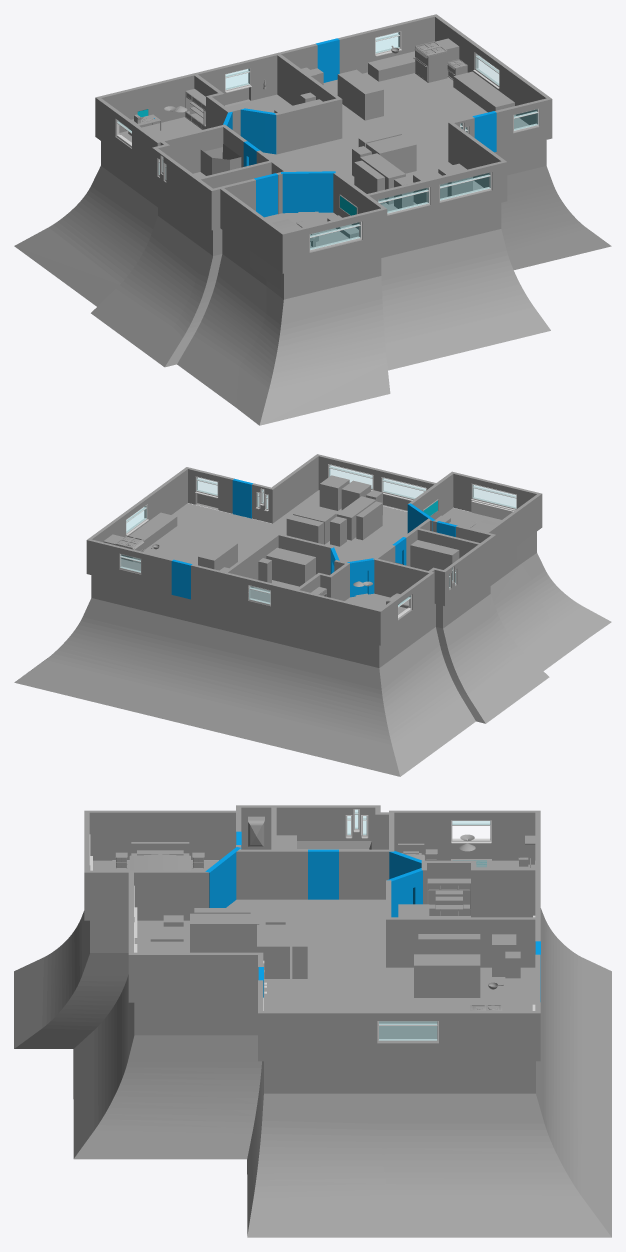
Rendered from GlessnerHome2.pointfive.fbx.
3 views of the same model, one above another, from view 1: azimuth 30°, elevation 25°; view 2: azimuth 150°, elevation 25°; view 3: azimuth 270°, elevation 25° (orthographic). The views are drawn at different scales.
Visible parts, largest first — view 1: pasted__pCube75, pasted__pasted__polySurface35, pasted__pCube74, pasted__pCube26, pasted__polySurface133, pasted__polySurface199, pasted__pCube51, pasted__pasted__pCylinder8, pasted__polySurface116, pasted__polySurface209, pasted__pCube77, pasted__pCube49 (+4 smaller); view 2: pasted__pCube75, pasted__pasted__polySurface35, pasted__pCube74, pasted__pCube39, pasted__pCube42, pasted__pCube26, pasted__polySurface199, pasted__pCube57, pasted__pCube53, pasted__pCube49, pasted__pCube50, pasted__polySurface120 (+4 smaller); view 3: pasted__pCube75, pasted__pasted__polySurface35, pasted__pCube74, pasted__pCube26, pasted__pCube50, pasted__pCube51, pasted__pCube27, pasted__pCube65, pasted__polySurface133, pasted__pasted__pCube81, pasted__polySurface121, pasted__polySurface116 (+7 smaller).
Boxes of the visible parts, box(x1,y1,x2,y2) form: pasted__pCube75: box(14, 159, 611, 425); pasted__pasted__polySurface35: box(95, 14, 552, 273); pasted__pCube74: box(101, 72, 546, 292); pasted__pCube26: box(337, 69, 383, 120); pasted__polySurface133: box(281, 171, 335, 213); pasted__polySurface199: box(453, 71, 514, 112); pasted__pCube51: box(366, 134, 416, 173); pasted__pasted__pCylinder8: box(413, 41, 447, 82); pasted__polySurface116: box(240, 108, 276, 154); pasted__polySurface209: box(368, 51, 414, 81); pasted__pCube77: box(200, 144, 241, 175); pasted__pCube49: box(354, 160, 384, 204); pasted__pCube75: box(14, 547, 611, 776); pasted__pasted__polySurface35: box(86, 454, 542, 645); pasted__pCube74: box(91, 490, 536, 662); pasted__pCube39: box(266, 547, 315, 586); pasted__pCube42: box(410, 540, 459, 570); pasted__pCube26: box(198, 539, 237, 570); pasted__polySurface199: box(129, 512, 177, 549); pasted__pCube57: box(286, 514, 323, 544); pasted__pCube53: box(319, 475, 349, 510); pasted__pCube49: box(356, 501, 382, 540); pasted__pCube50: box(336, 496, 376, 540); pasted__polySurface120: box(347, 558, 374, 597); pasted__pCube75: box(14, 908, 611, 1237); pasted__pasted__polySurface35: box(84, 805, 540, 1061); pasted__pCube74: box(90, 860, 535, 1085); pasted__pCube26: box(414, 954, 480, 997); pasted__pCube50: box(190, 913, 259, 952); pasted__pCube51: box(257, 924, 289, 978); pasted__pCube27: box(418, 934, 480, 954); pasted__pCube65: box(427, 878, 470, 915); pasted__polySurface133: box(205, 847, 240, 907); pasted__pasted__pCube81: box(129, 854, 190, 870); pasted__polySurface121: box(308, 849, 338, 899); pasted__polySurface116: box(387, 868, 422, 917).
Bounding box in the file's own units: 168 × 55.13 × 156.
